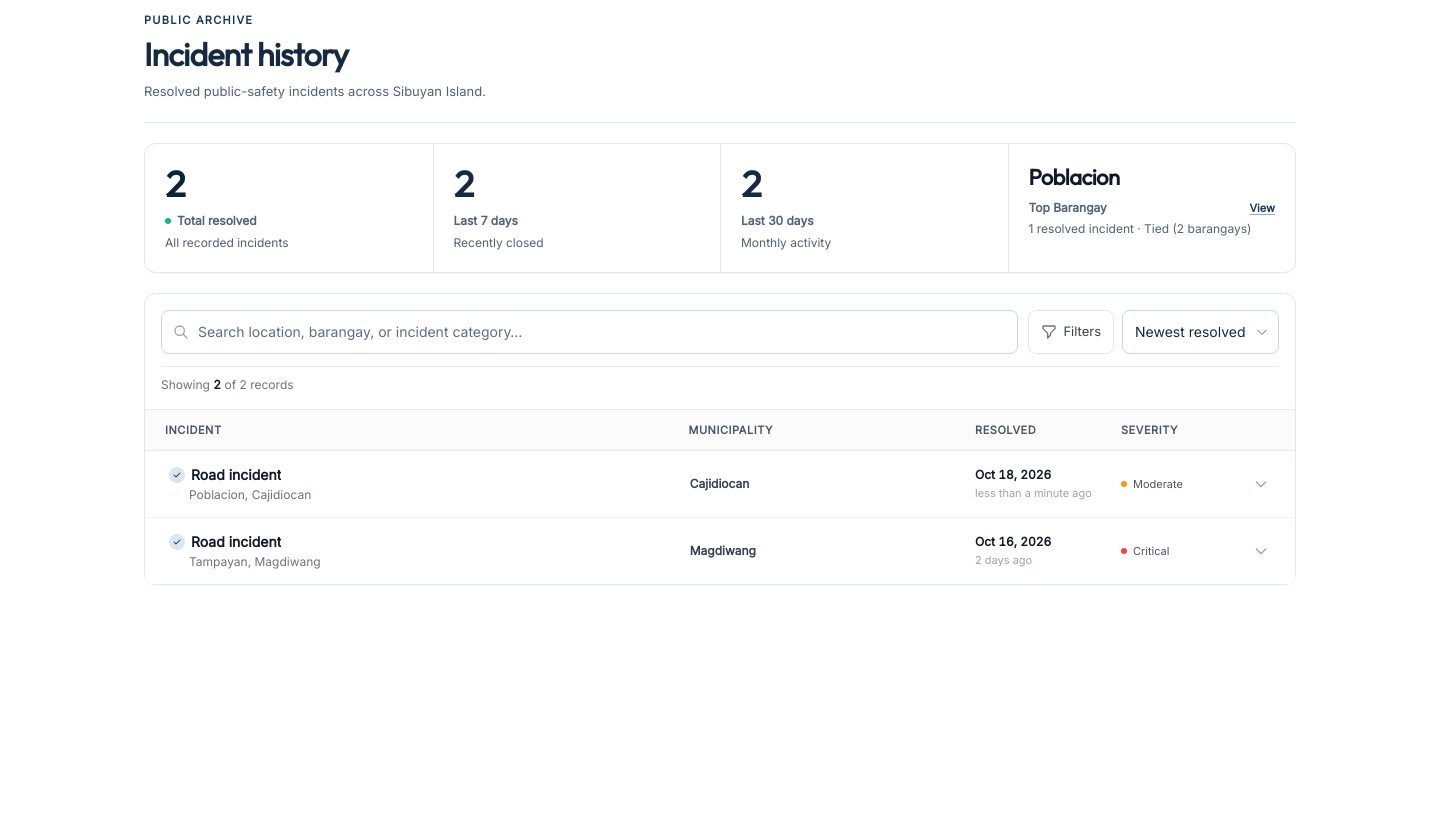
Test: AccidentHistoryPage features and filters › dossier gates full details to the admin's own municipality
The image size is (1440, 822).
Expected: the text "Tampayan, Magdiwang" is shown, x1=189 y1=554 x2=321 y2=569
Click the button with aria-label "Expand details" at (720,551), box x1=145 y1=518 x2=1295 y2=584
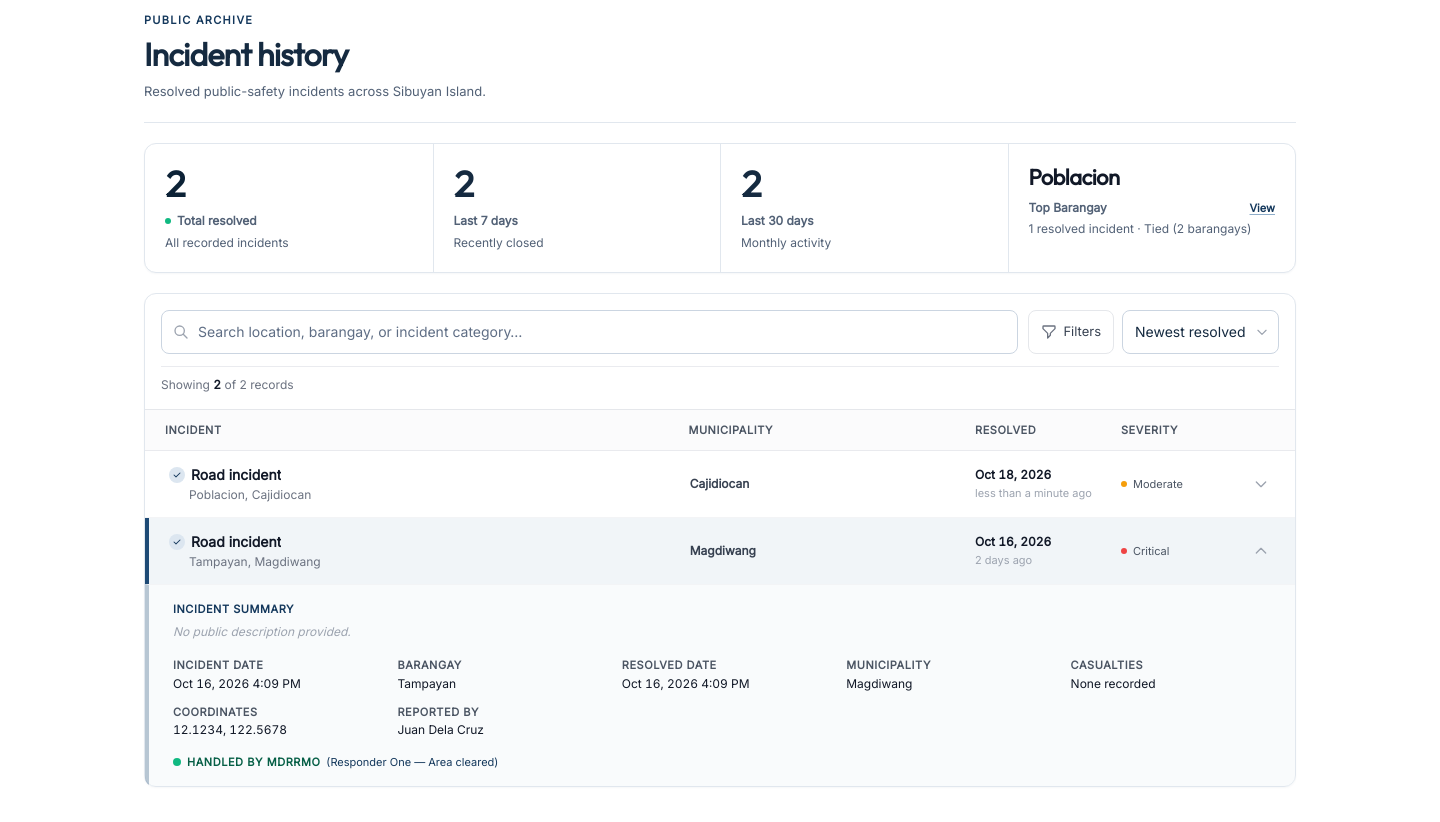
Expected: the text "Reported by" is shown, x1=397 y1=705 x2=479 y2=719
Expected: the text "Coordinates" is shown, x1=173 y1=705 x2=258 y2=719
Expected: the text "Juan Dela Cruz" is shown, x1=397 y1=722 x2=484 y2=737
Click the button with aria-label "Expand details" at (720,484), box x1=145 y1=451 x2=1295 y2=517
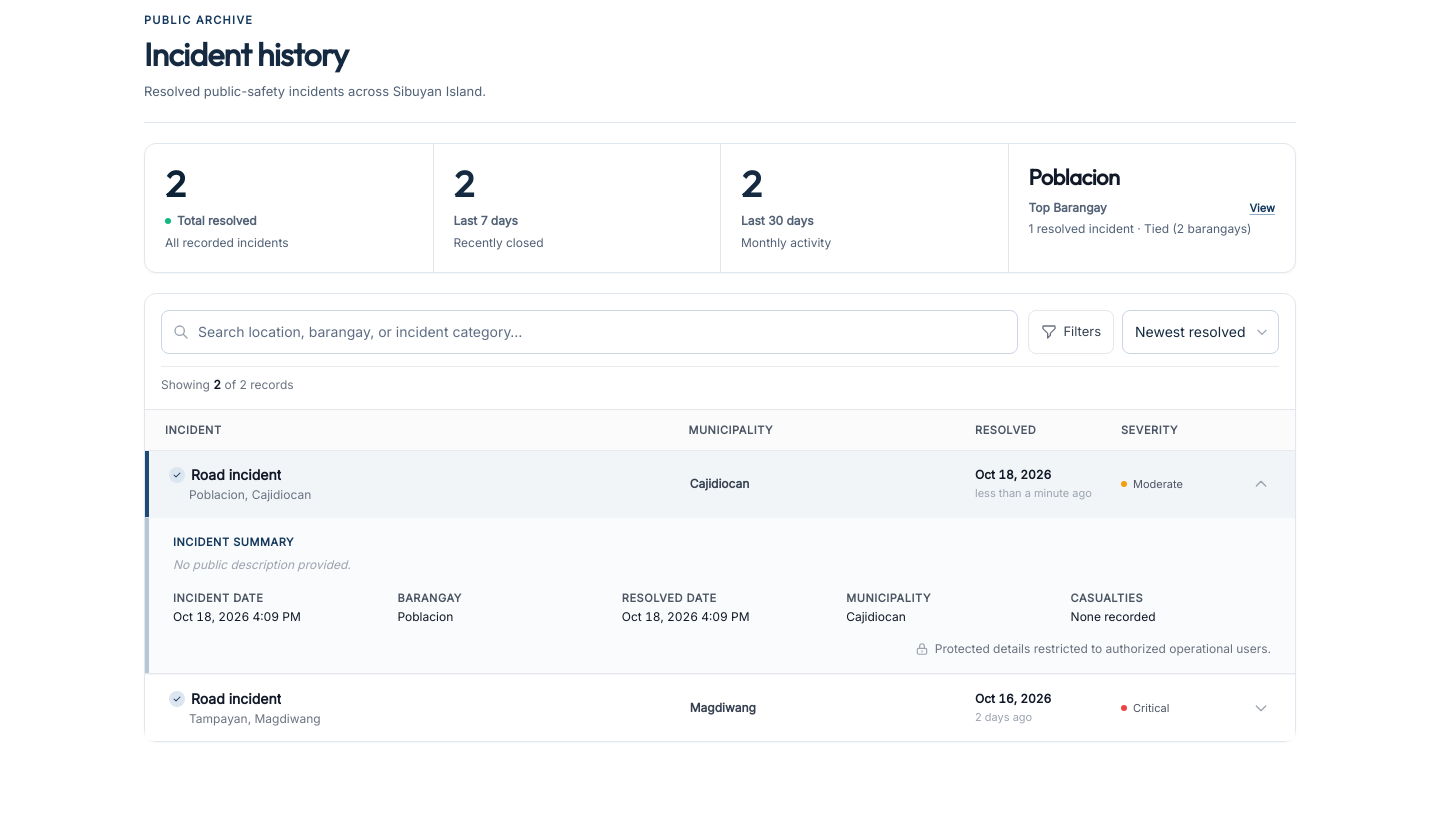
Expected: the text "Protected details restricted" is shown, x1=935 y1=641 x2=1271 y2=656
Expected: the text "Coordinates" is gone
Expected: the text "Reported by" is gone
